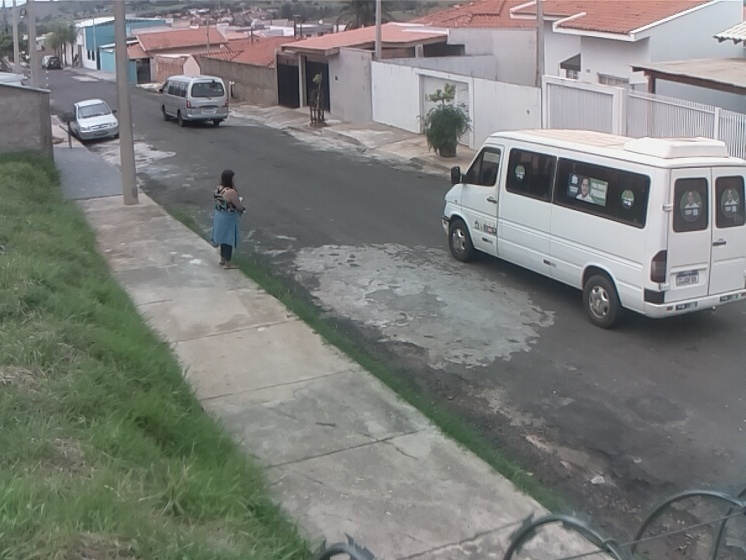person: (213, 168, 249, 275)
